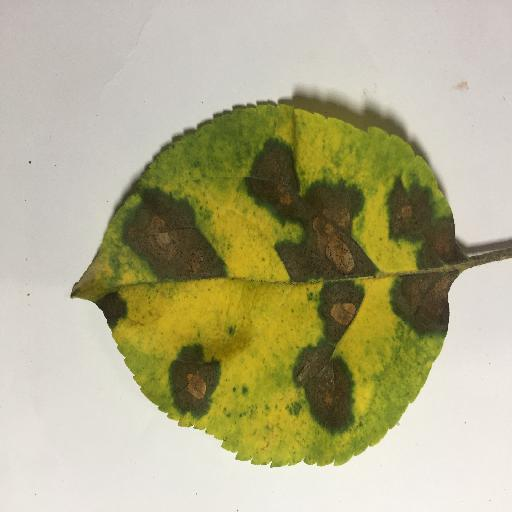Brown_Spot: (240, 156, 370, 276), (272, 278, 357, 437), (117, 199, 223, 276), (373, 175, 462, 258), (384, 274, 456, 339), (166, 347, 220, 415)
